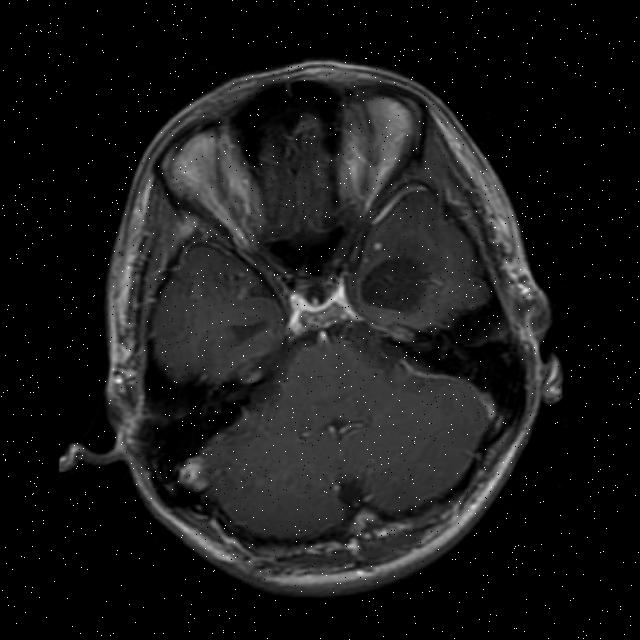Glioma: (357, 254, 434, 315)
